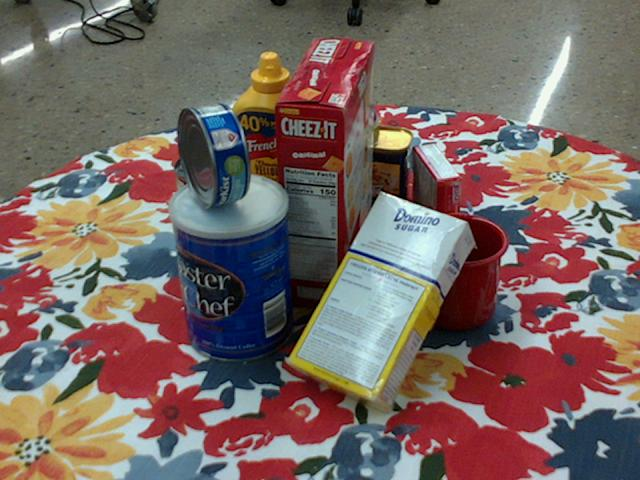cracker_box: (272, 40, 375, 311)
gelatin_box: (413, 142, 460, 238)
large_marker: (346, 77, 379, 128)
master_chef_can: (169, 174, 292, 365)
mug: (380, 212, 507, 330)
mustard_bottle: (228, 53, 321, 226)
potted_meat_can: (320, 122, 413, 212)
sugar_box: (286, 193, 474, 418)
tomato_soup_can: (174, 149, 247, 264)
tuna_fish_can: (176, 103, 250, 208)
